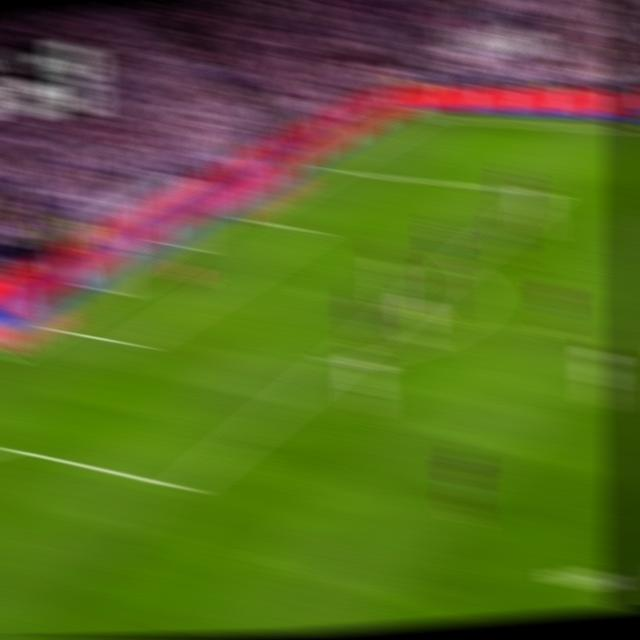bigarea_bottom_inner: (168, 471, 199, 504)
bigarea_top_inner: (536, 184, 560, 201)
bigarea_top_outter: (317, 161, 342, 177)
bottom_arc_area_intersection: (323, 350, 352, 375)
corner: (403, 109, 431, 124)
midline_bottom_intersection: (181, 240, 206, 256)
smallarea_bottom_inner: (121, 332, 148, 356)
smallarea_top_inner: (299, 221, 324, 240)
top_arc_area_intersection: (450, 253, 474, 270)
